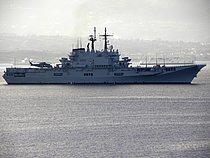MIL_Ship: (4, 26, 206, 88)
